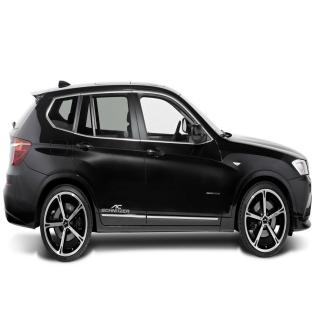Auto: (3, 79, 312, 263)
